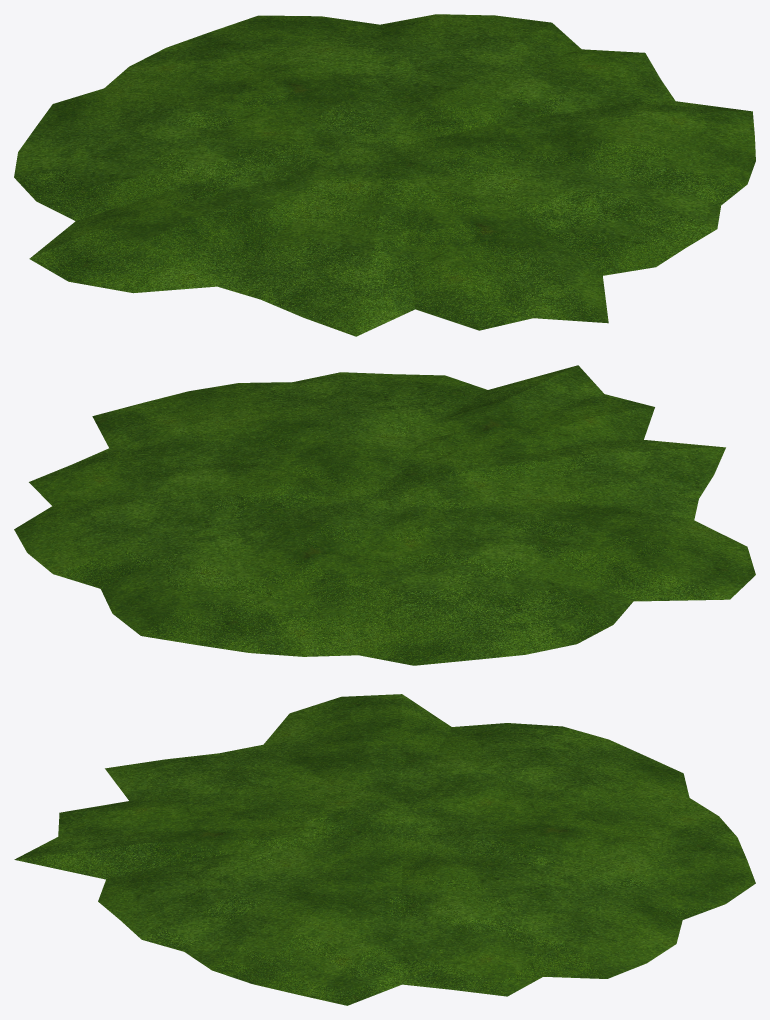
Rendered from feather_moss_v01.glb.
The picture shows the model from 3 angles, top to bottom: view 1: azimuth 30°, elevation 25°; view 2: azimuth 150°, elevation 25°; view 3: azimuth 270°, elevation 25°; orthographic projection. The views are drawn at different scales.
Visible parts, largest first — view 1: feather_moss_v01; view 2: feather_moss_v01; view 3: feather_moss_v01.
Boxes of the visible parts, x1,y1,x2,y2 form: feather_moss_v01: [14, 14, 755, 336]; feather_moss_v01: [14, 365, 755, 665]; feather_moss_v01: [14, 694, 755, 1005].
Size of the model in its own units: 0.8144 by 0.0325 by 0.819.
Materials: 1 (1 with a texture image).
